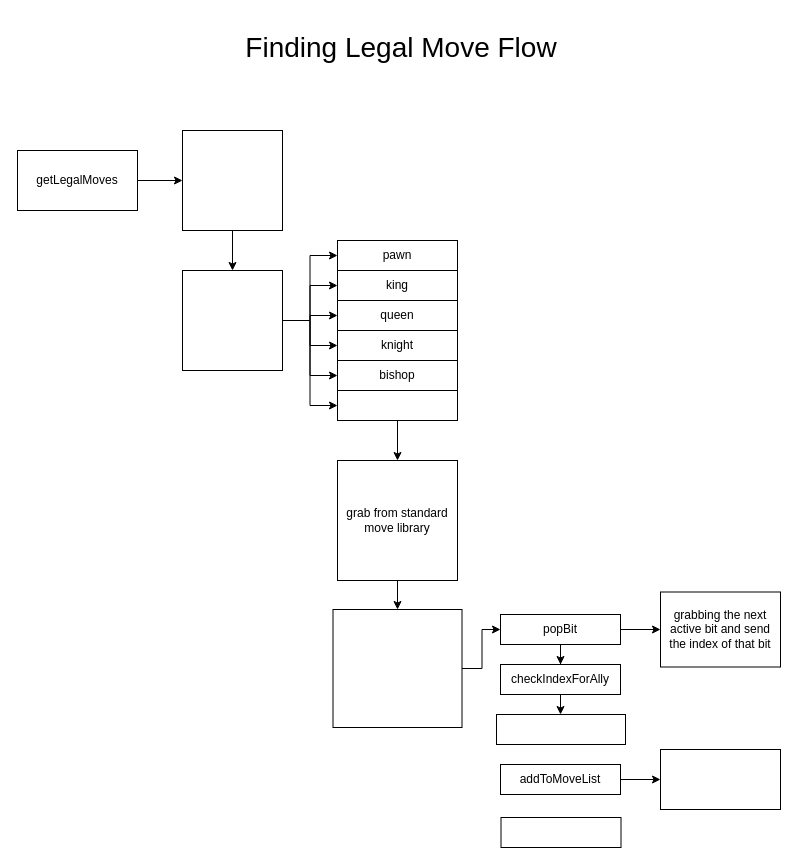
Some shapes in this 798 by 865 pixel diagram are drawn without their labels. The centre of each missing label's shape, as x and y in pixels:
add bit index to a list: pixel 720 779
Call appropriate piece-move function: pixel 232 320
checkIndexForEnemy: pixel 561 729
Iterate through each piece of moving player: pixel 232 180
iterate through standard move int64: pixel 397 668
rook: pixel 397 405
